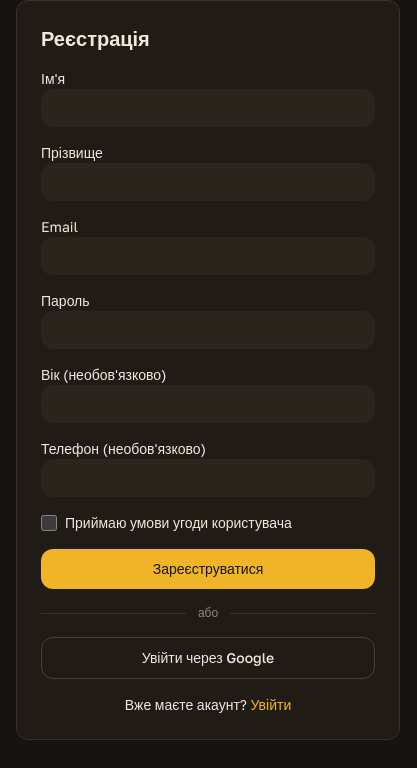
RegisterForm (a11y помилок полів) › помилка поля НЕ всередині label, пов'язана через aria-describedby
Click the button "Зареєструватися": x=208, y=569 [41,549,375,589]
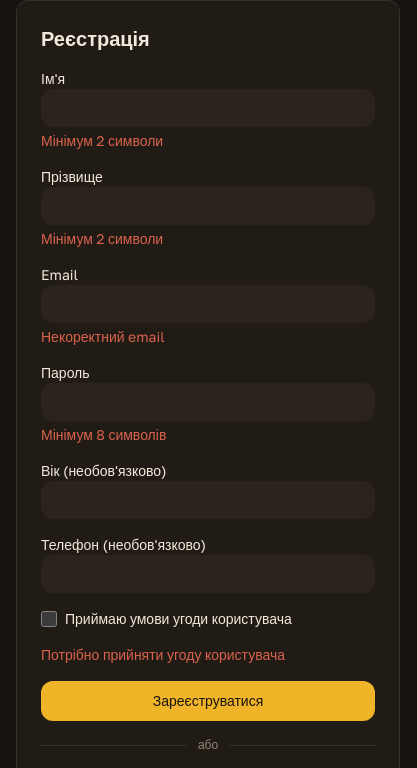
Check: the message "Мінімум 2 символи" below "Ім'я" is shown, box [41,132,163,149]
